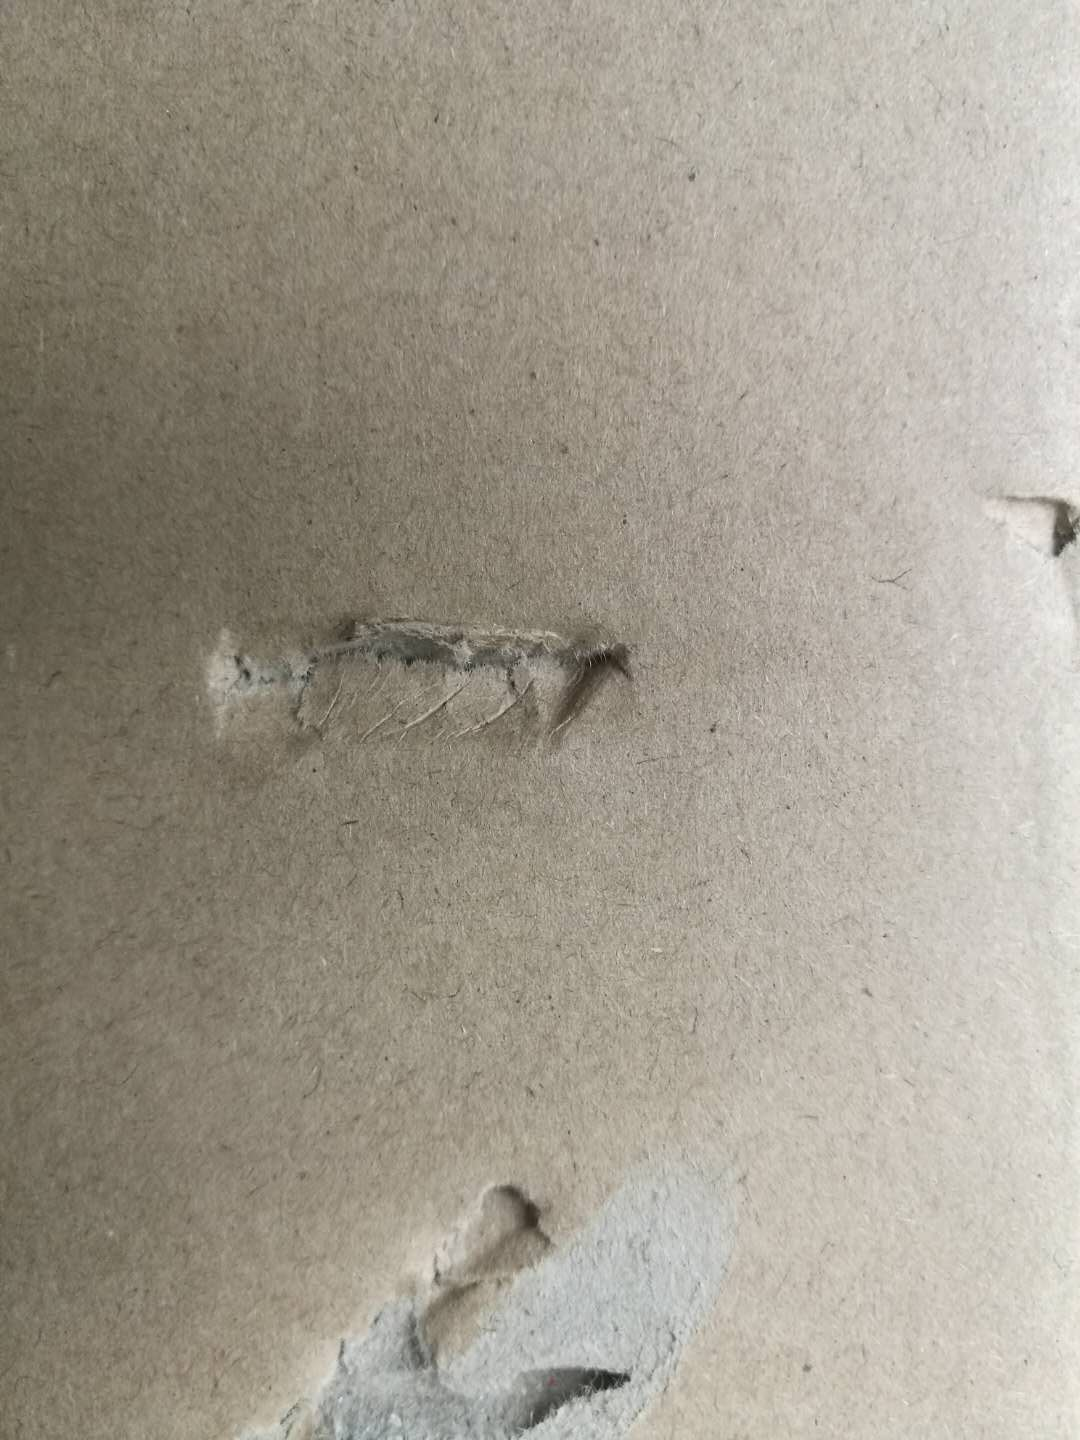defect: (217, 1130, 777, 1435), (174, 570, 666, 795), (957, 461, 1080, 642)
